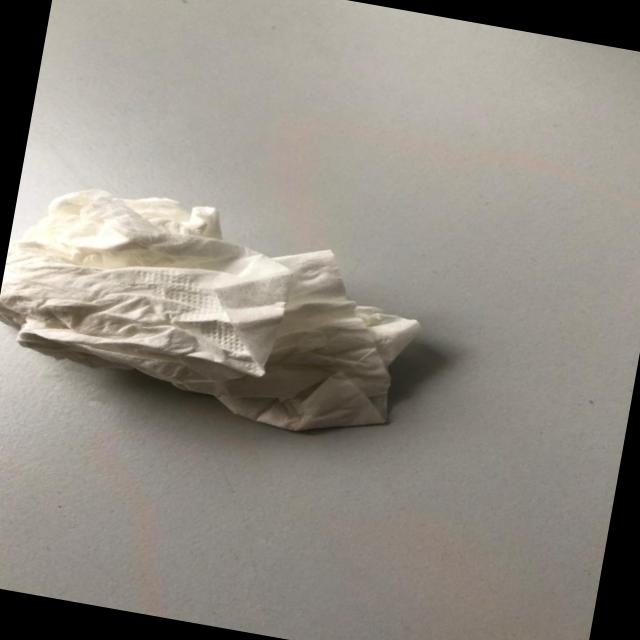organic waste: (0, 166, 440, 454)
